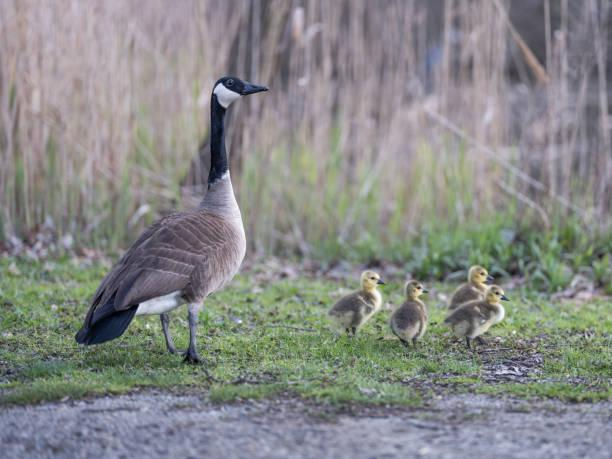Canadian-Goose: (74, 72, 273, 362), (444, 285, 507, 345), (329, 267, 383, 331), (389, 276, 429, 344), (449, 268, 495, 303)
